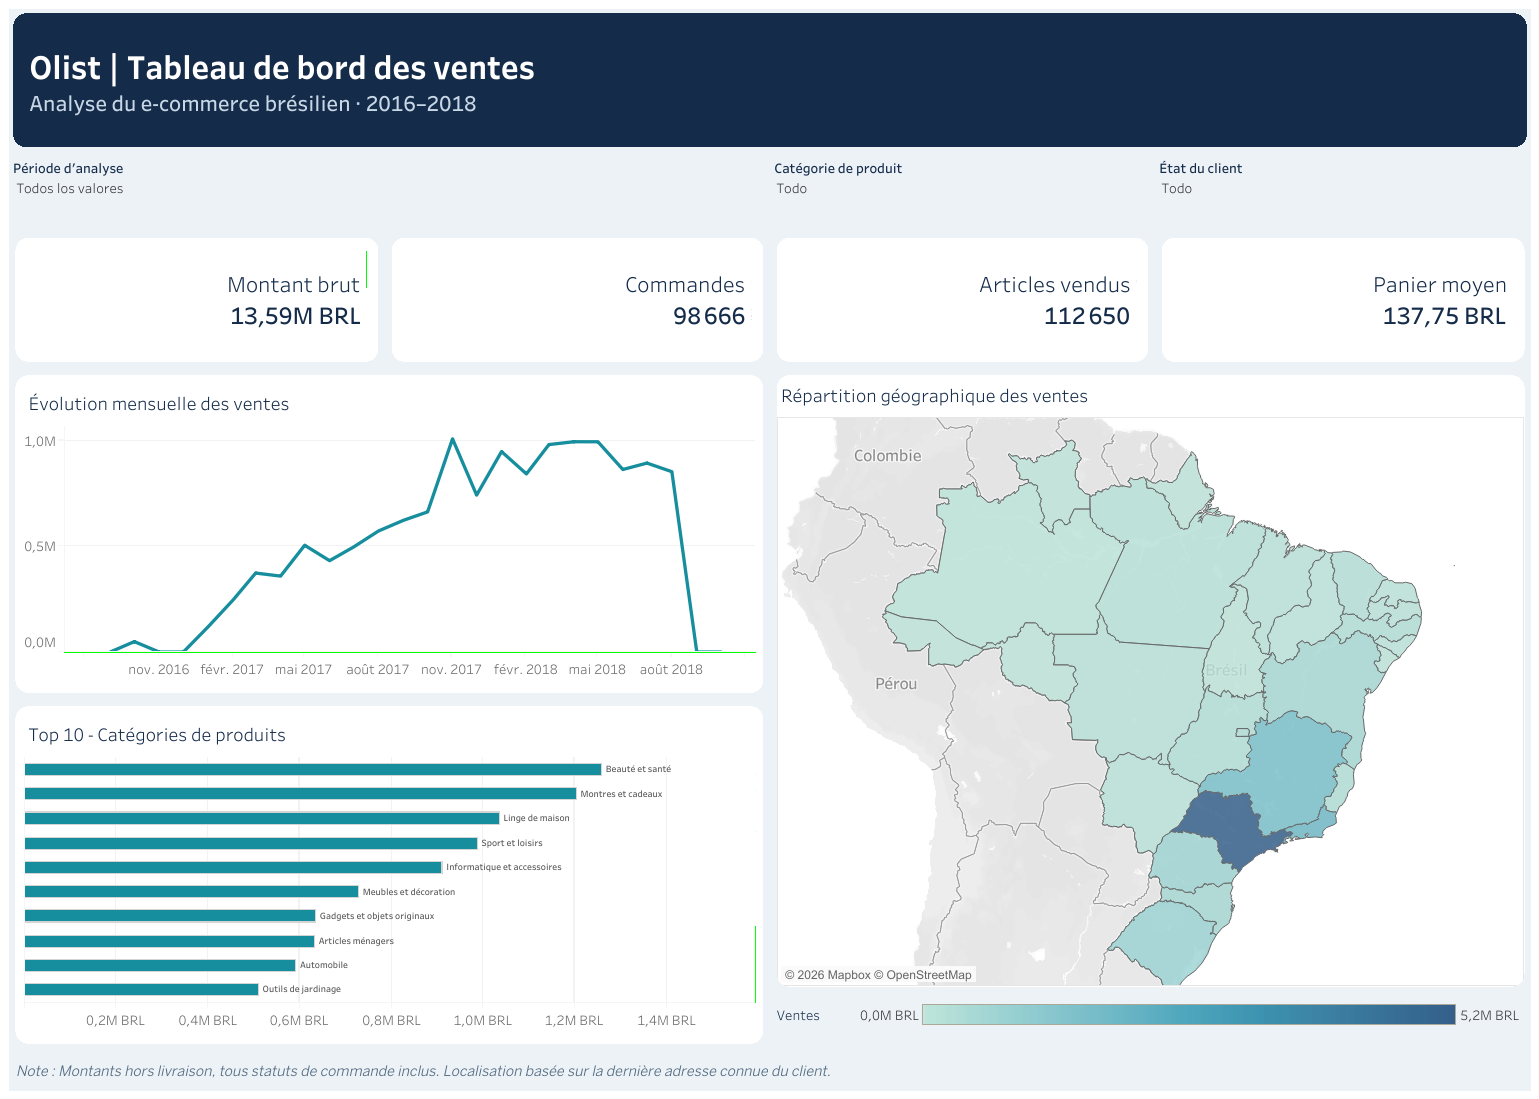

What the dashboard file says about the page in this screenshot:
{"tool":"tableau","page":{"name":"Olist - Tableau de bord des ventes","canvas":[1400,1000],"ordinal":0},"visuals":[{"type":"text","box":[8,8,1384,130.5]},{"type":"filter","title":"Évolution mensuelle des ventes","param":"[federated.0wthgoe1ko7hpf16n7hnz1ponacs].[none:date:qk]","box":[8,138.5,692,71.4]},{"type":"filter","title":"Top 10 - Catégories de produits","param":"[federated.0wthgoe1ko7hpf16n7hnz1ponacs].[none:Category Name Fr (copia)_02589968","box":[699.9,138.5,350,71.4]},{"type":"filter","title":"KPI - Articles vendus","param":"[federated.0wthgoe1ko7hpf16n7hnz1ponacs].[none:state (dim_customer.csv):nk]","box":[1050,138.5,342,71.4]},{"type":"worksheet","title":"KPI - Montant brut des articles","mark":"Automatic","box":[8,209.8,341.8,125]},{"type":"worksheet","title":"KPI - Nombre de commandes","mark":"Automatic","box":[349.8,209.8,350.1,125]},{"type":"worksheet","title":"KPI - Articles vendus","mark":"Automatic","box":[699.9,209.8,350,125.2]},{"type":"worksheet","title":"KPI - Panier moyen","mark":"Automatic","box":[1049.8,209.8,342.2,125.2]},{"type":"worksheet","title":"Évolution mensuelle des ventes","mark":"Line","rows":["Calculation_0258996810567680"],"cols":["date"],"box":[8,334.8,691.9,301]},{"type":"worksheet","title":"Répartition géographique des ventes","mark":"Multipolygon","box":[699.9,335,692.1,567.9]},{"type":"worksheet","title":"Top 10 - Catégories de produits","mark":"Bar","rows":["category_name_fr"],"cols":["price"],"box":[8,635.8,691.9,319.1]},{"type":"legend","title":"Répartition géographique des ventes","param":"[federated.0wthgoe1ko7hpf16n7hnz1ponacs].[sum:price:qk]","box":[699.9,902.9,692.1,52]},{"type":"text","box":[8,954.9,1384,37.1]}]}

Visuals, with their boxes in screenshot pixels (x1, y1, x2, y2), scaled from the page's 1400x1000 canvas onto the 1539x1099 screenshot:
text: bbox=[9, 9, 1530, 152]
"Évolution mensuelle des ventes" filter: bbox=[9, 152, 769, 231]
"Top 10 - Catégories de produits" filter: bbox=[769, 152, 1154, 231]
"KPI - Articles vendus" filter: bbox=[1154, 152, 1530, 231]
"KPI - Montant brut des articles" worksheet: bbox=[9, 231, 385, 368]
"KPI - Nombre de commandes" worksheet: bbox=[385, 231, 769, 368]
"KPI - Articles vendus" worksheet: bbox=[769, 231, 1154, 368]
"KPI - Panier moyen" worksheet: bbox=[1154, 231, 1530, 368]
"Évolution mensuelle des ventes" worksheet (Line marks): bbox=[9, 368, 769, 699]
"Répartition géographique des ventes" worksheet (Multipolygon marks): bbox=[769, 368, 1530, 992]
"Top 10 - Catégories de produits" worksheet (Bar marks): bbox=[9, 699, 769, 1049]
"Répartition géographique des ventes" legend: bbox=[769, 992, 1530, 1049]
text: bbox=[9, 1049, 1530, 1090]
